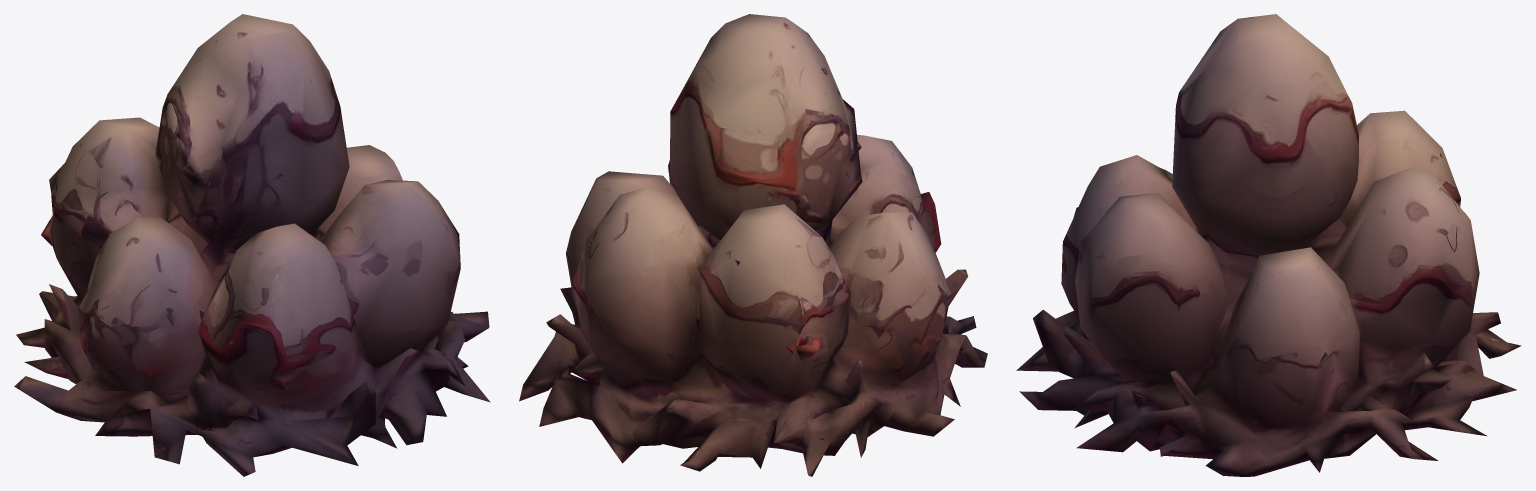
The model's file is egg-sacs.glb.
3 views of the same model, side by side, from view 1: azimuth 30°, elevation 25°; view 2: azimuth 150°, elevation 25°; view 3: azimuth 270°, elevation 25° (orthographic).
Visible parts, largest first — view 1: tripo_node_c39b858a-aea0-4bf1-bd3e-0052e68cd3e7; view 2: tripo_node_c39b858a-aea0-4bf1-bd3e-0052e68cd3e7; view 3: tripo_node_c39b858a-aea0-4bf1-bd3e-0052e68cd3e7.
Boxes of the visible parts, x1,y1,x2,y2 form: tripo_node_c39b858a-aea0-4bf1-bd3e-0052e68cd3e7: (14, 14, 490, 476); tripo_node_c39b858a-aea0-4bf1-bd3e-0052e68cd3e7: (519, 14, 987, 476); tripo_node_c39b858a-aea0-4bf1-bd3e-0052e68cd3e7: (1016, 14, 1521, 476).
Size of the model in its own units: 0.9952 by 0.7888 by 0.9946.
Materials: 1 (1 with a texture image).
